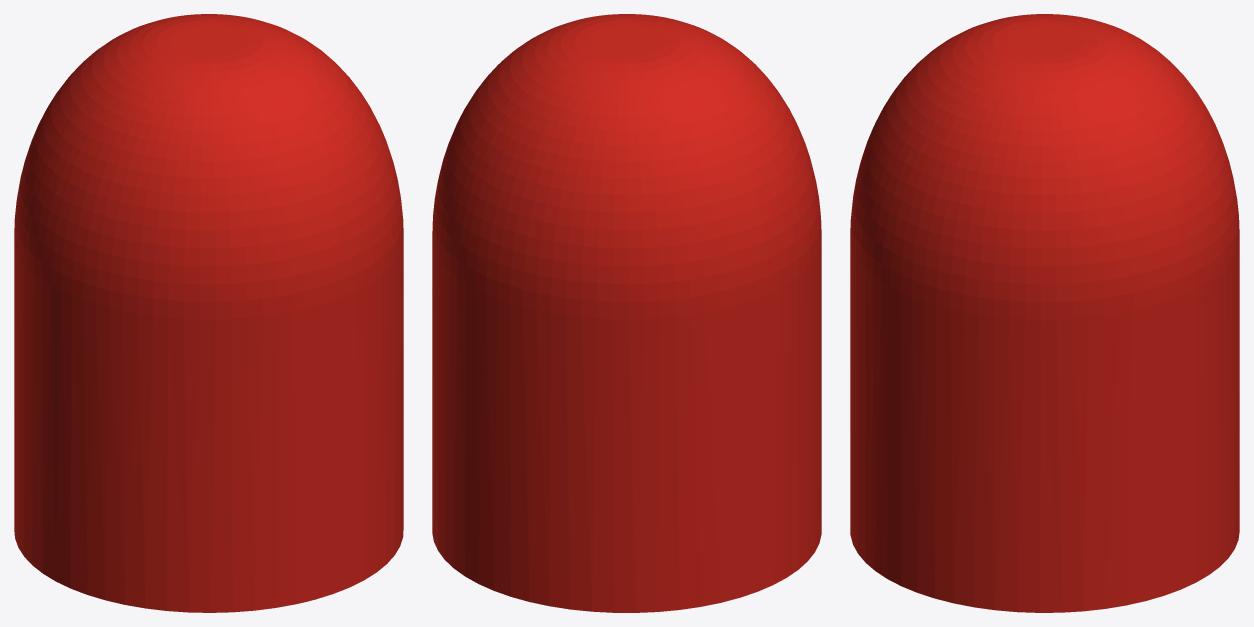
The model's file is encendido.glb.
3 renders of one model, left to right at view 1: azimuth 30°, elevation 25°; view 2: azimuth 150°, elevation 25°; view 3: azimuth 270°, elevation 25°, orthographic.
Visible parts, largest first — view 1: LED; view 2: LED; view 3: LED.
Part boxes in pixels (left/top/right/bottom): LED: left=14, top=14, right=403, bottom=612; LED: left=432, top=14, right=821, bottom=612; LED: left=850, top=14, right=1239, bottom=612.
Size of the model in its own units: 2.06 by 2.85 by 2.06.
